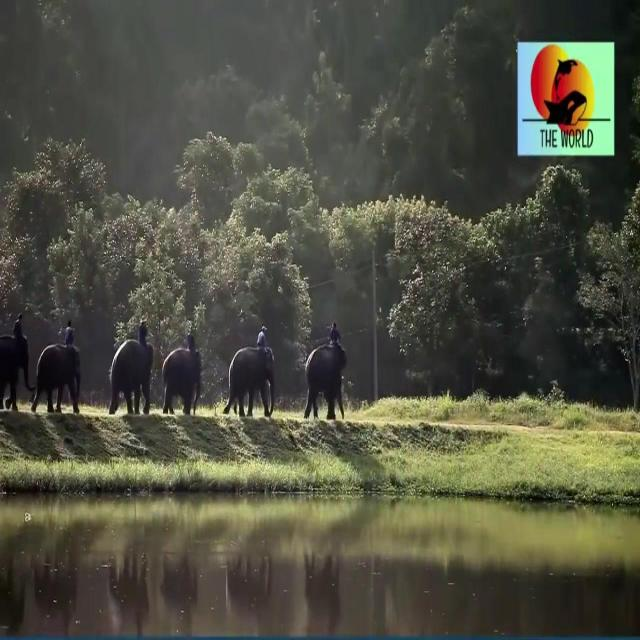Elephant: (105, 338, 157, 409), (305, 345, 347, 415), (227, 347, 275, 407), (37, 344, 85, 400), (162, 349, 206, 407), (0, 338, 35, 402)
